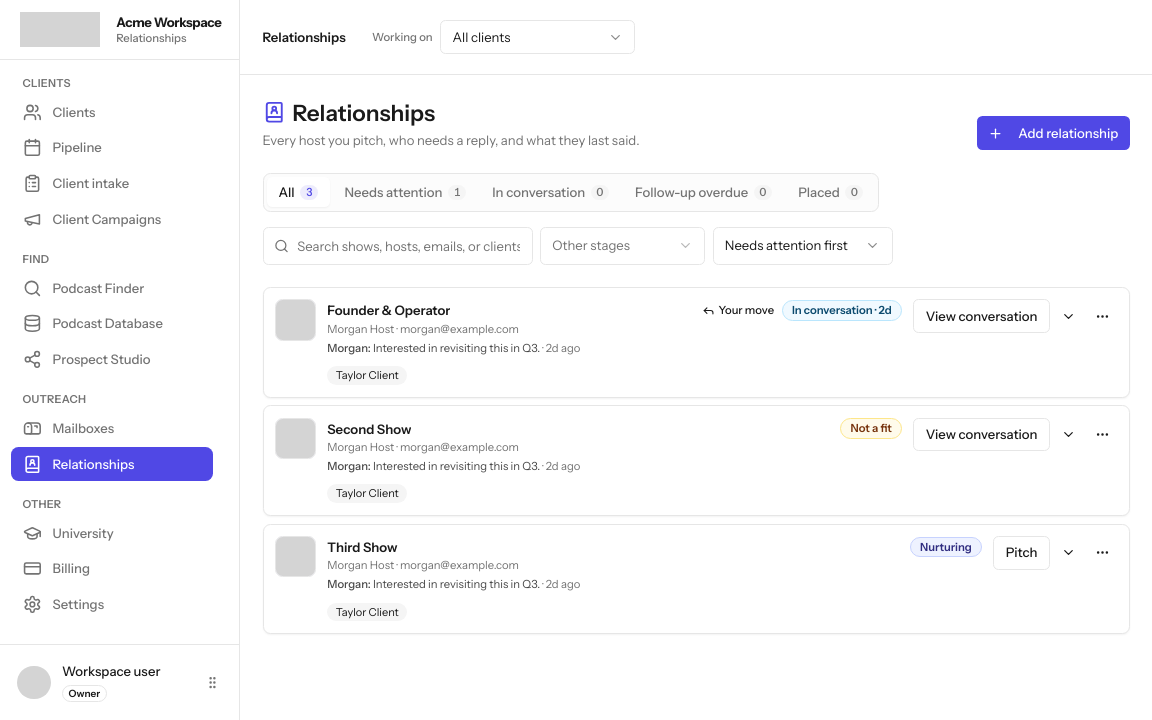
Test: WorkspaceRelationships › uses one stage vocabulary on badges and in the filter
Expected: the text "In conversation · 2d" is shown, [782,300,902,321]
Expected: the text "Not a fit" is shown, [840,418,902,439]
Click the dropdown labelled "Other stages".
click(622, 246)  # box [540,227,705,264]
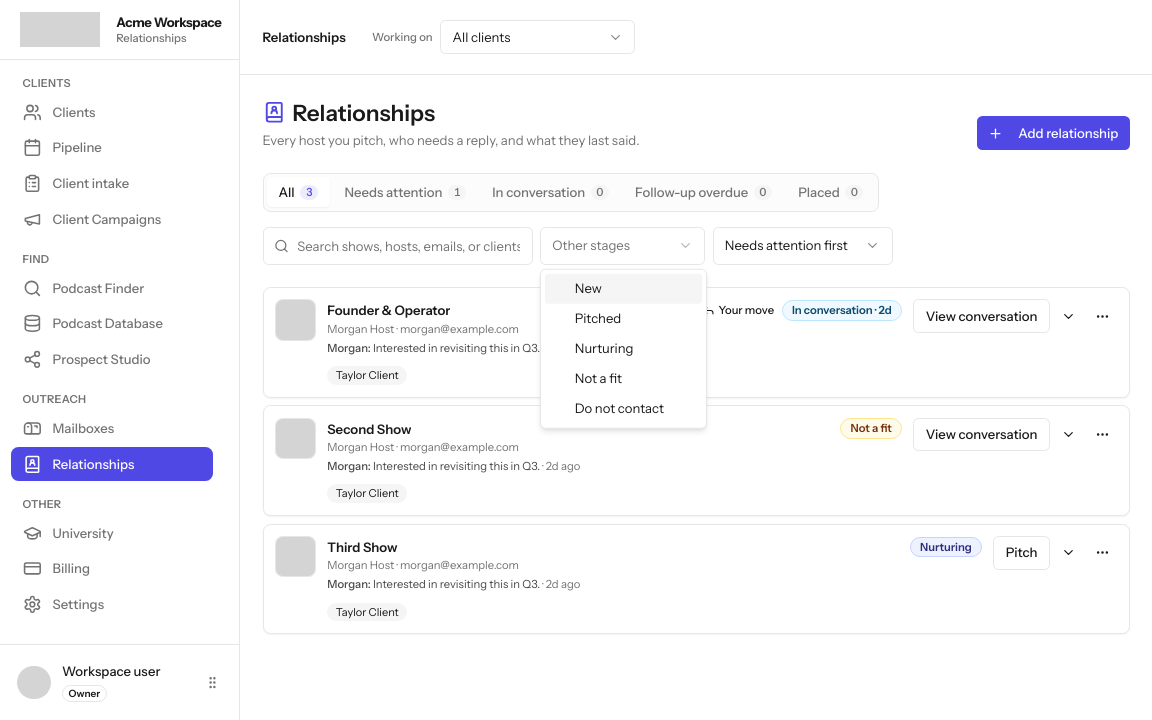
Now the options read "New", "Pitched", "Nurturing", "Not a fit", "Do not contact", in this order
Click the option "Not a fit".
click(598, 378)  # box [575,370,622,386]
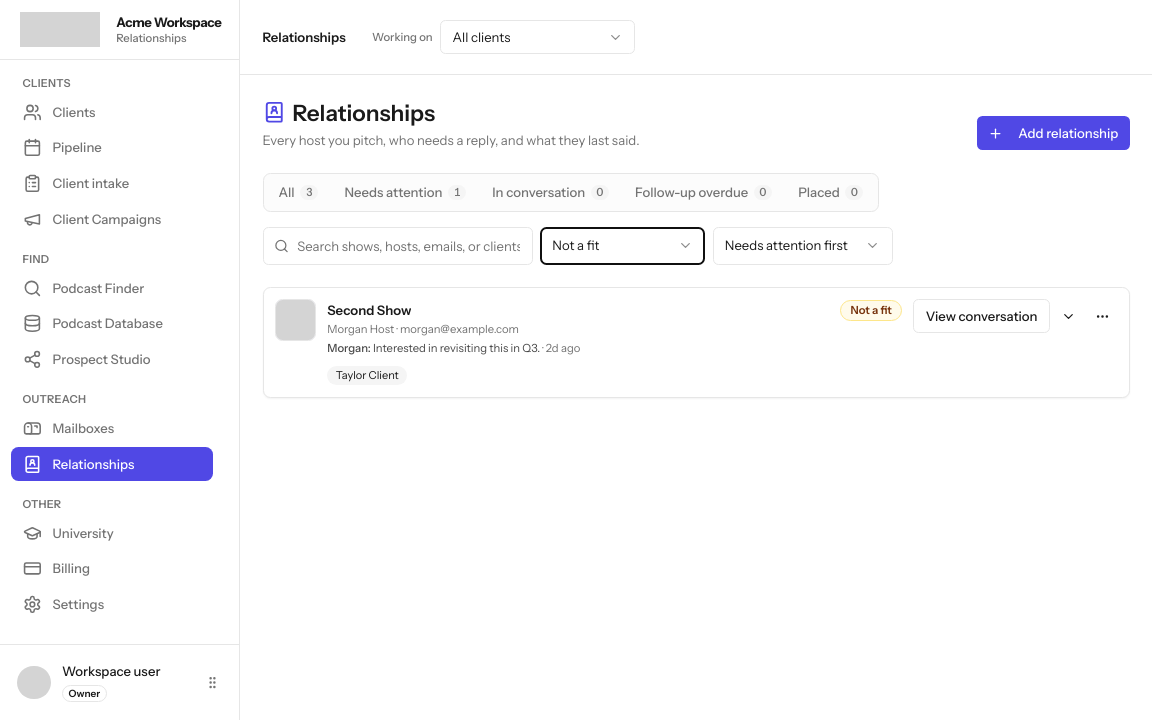
Expected: the button "Second Show" is shown, [327,299,411,322]
Now the button "Third Show" is gone
